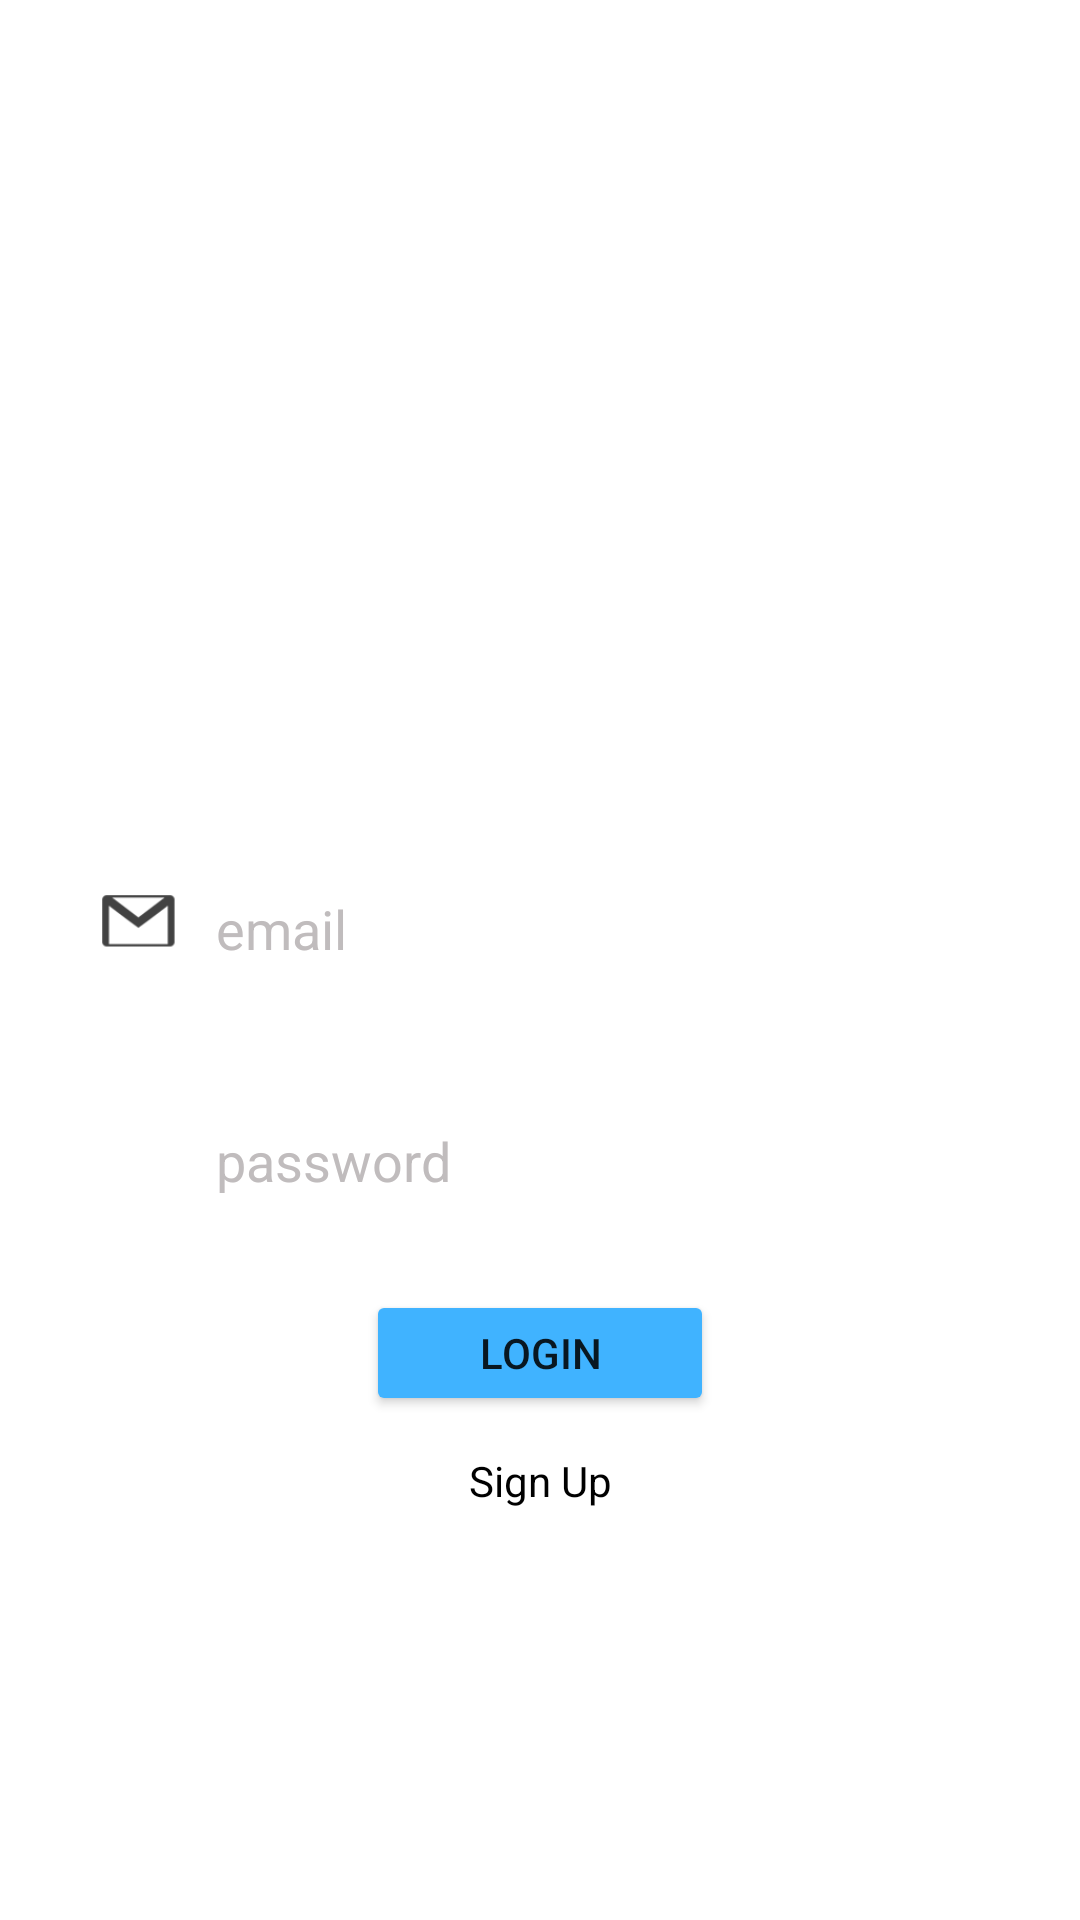

Where to tap for icons on this 1080 x 1920 app screen, as [x,y]:
mails: [138,921]
